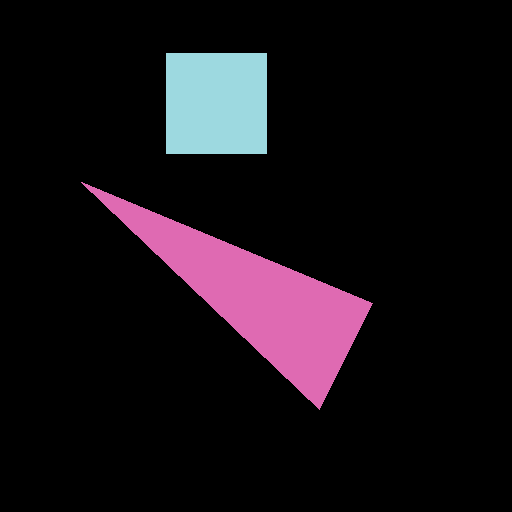square: (166, 53, 266, 153)
triangle: (81, 182, 372, 409)
